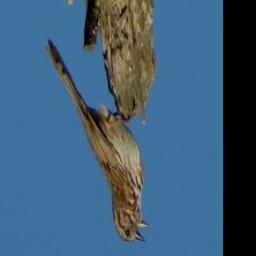Sparrow: (41, 36, 148, 246)
